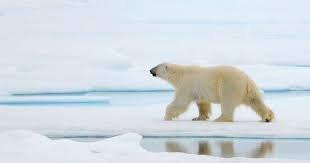bear: (148, 56, 278, 131)
